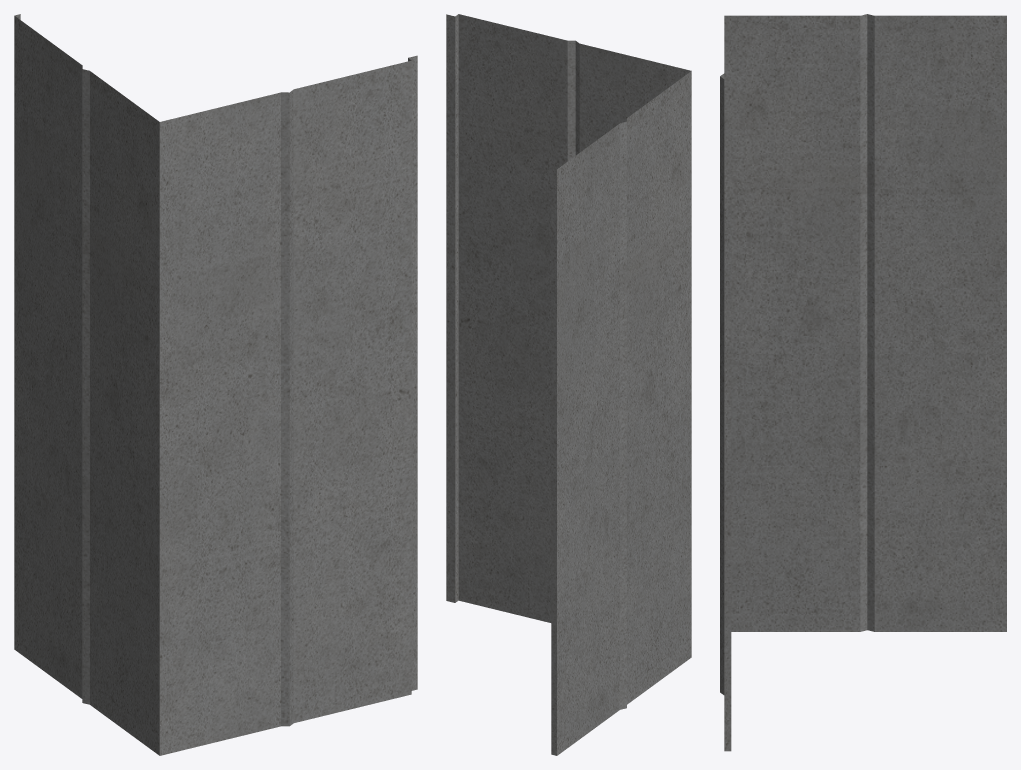
Rendered from ConcreteWall90d.fbx.
3 renders of one model, left to right at view 1: azimuth 30°, elevation 25°; view 2: azimuth 150°, elevation 25°; view 3: azimuth 270°, elevation 25°, orthographic. The views are drawn at different scales.
Visible parts, largest first — view 1: ConcWall45D; view 2: ConcWall45D; view 3: ConcWall45D.
Part boxes in pixels (bbox=[...]): ConcWall45D: bbox=[14, 14, 417, 755]; ConcWall45D: bbox=[446, 14, 691, 755]; ConcWall45D: bbox=[720, 14, 1006, 751].
Bounding box in the file's own units: 208 × 475 × 201.
